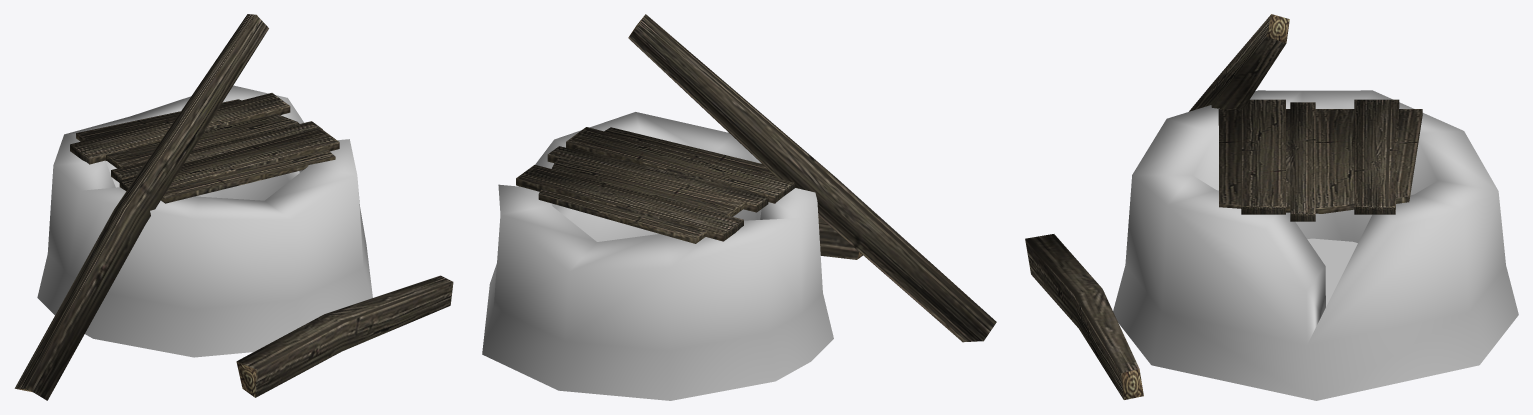
The model's file is Wells01_Parts_LostTemple_001.FBX.
3 views of the same model, side by side, from view 1: azimuth 30°, elevation 25°; view 2: azimuth 150°, elevation 25°; view 3: azimuth 270°, elevation 25° (orthographic). The views are drawn at different scales.
Parts seen in each view (by area): view 1: Wells01_Parts_LostTemple_001; view 2: Wells01_Parts_LostTemple_001; view 3: Wells01_Parts_LostTemple_001.
Boxes of the visible parts, box(x1,y1,x2,y2) form: Wells01_Parts_LostTemple_001: box(14, 14, 453, 400); Wells01_Parts_LostTemple_001: box(482, 14, 996, 400); Wells01_Parts_LostTemple_001: box(1025, 14, 1518, 400).
Size of the model in its own units: 489 by 320 by 443.
